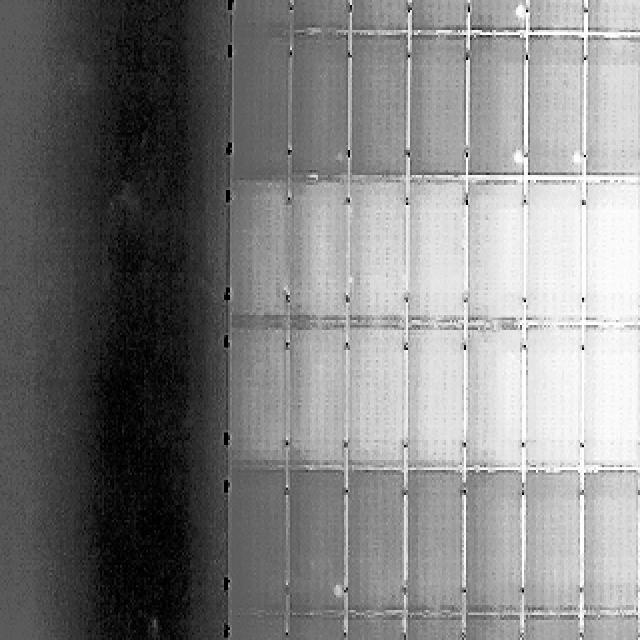Hotspots: (327, 576, 348, 604), (510, 144, 526, 170), (569, 148, 585, 172)
PV-modules: (286, 32, 348, 180), (228, 321, 290, 468), (284, 466, 346, 612), (285, 178, 347, 322), (405, 467, 466, 613), (229, 468, 290, 614), (461, 177, 522, 323), (459, 467, 520, 613), (351, 176, 411, 324), (406, 176, 466, 324), (462, 34, 524, 177), (350, 467, 411, 612), (353, 33, 413, 180), (350, 325, 411, 469), (284, 324, 345, 468), (459, 324, 520, 468), (580, 32, 640, 178), (232, 32, 292, 178), (578, 466, 638, 612), (408, 33, 468, 179), (526, 177, 586, 323), (406, 325, 466, 469), (525, 467, 584, 613), (230, 178, 290, 320), (527, 34, 586, 177), (581, 179, 639, 324), (580, 324, 638, 468), (526, 324, 584, 468), (352, 0, 412, 32), (526, 0, 586, 32), (582, 0, 640, 32), (288, 0, 348, 30), (408, 0, 468, 30), (464, 0, 524, 30), (234, 0, 292, 30), (286, 615, 348, 640), (228, 615, 290, 640), (343, 616, 405, 640), (461, 616, 522, 640), (402, 618, 464, 640), (522, 618, 584, 640), (580, 615, 640, 637), (638, 612, 640, 638)
